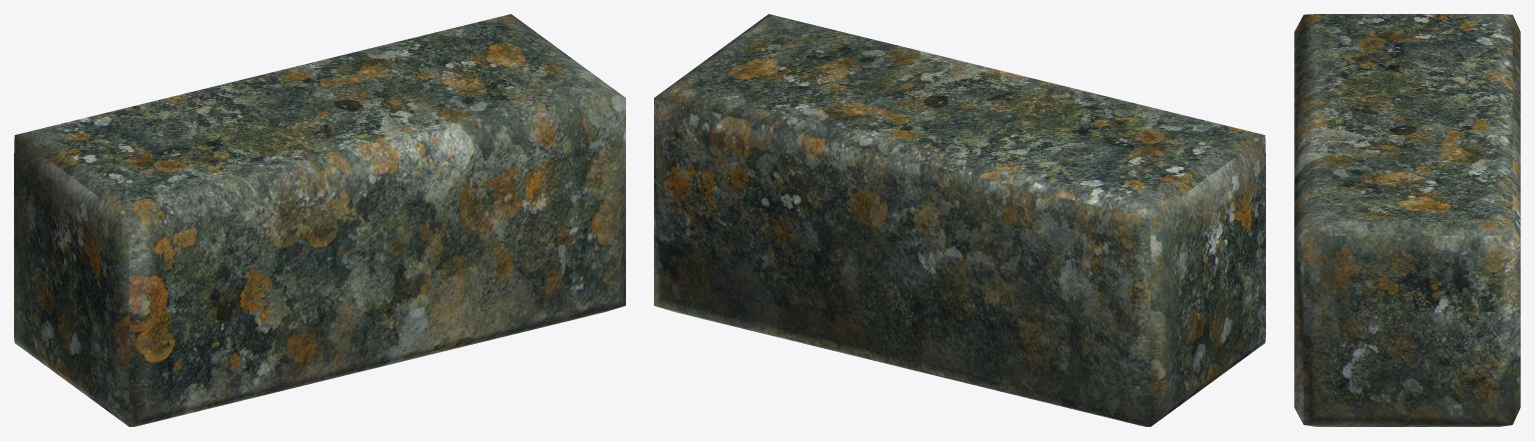
File: wallstone.FBX
The picture shows the model from 3 angles, left to right: view 1: azimuth 30°, elevation 25°; view 2: azimuth 150°, elevation 25°; view 3: azimuth 270°, elevation 25°; orthographic projection. The views are drawn at different scales.
Visible parts, largest first — view 1: paasikivi; view 2: paasikivi; view 3: paasikivi.
Boxes of the visible parts, left/top/right/bottom form: paasikivi: left=14, top=14, right=625, bottom=426; paasikivi: left=654, top=14, right=1265, bottom=426; paasikivi: left=1294, top=14, right=1520, bottom=426.
Bounding box in the file's own units: 80.99 × 33.78 × 34.11.
1 material, 1 textured.
